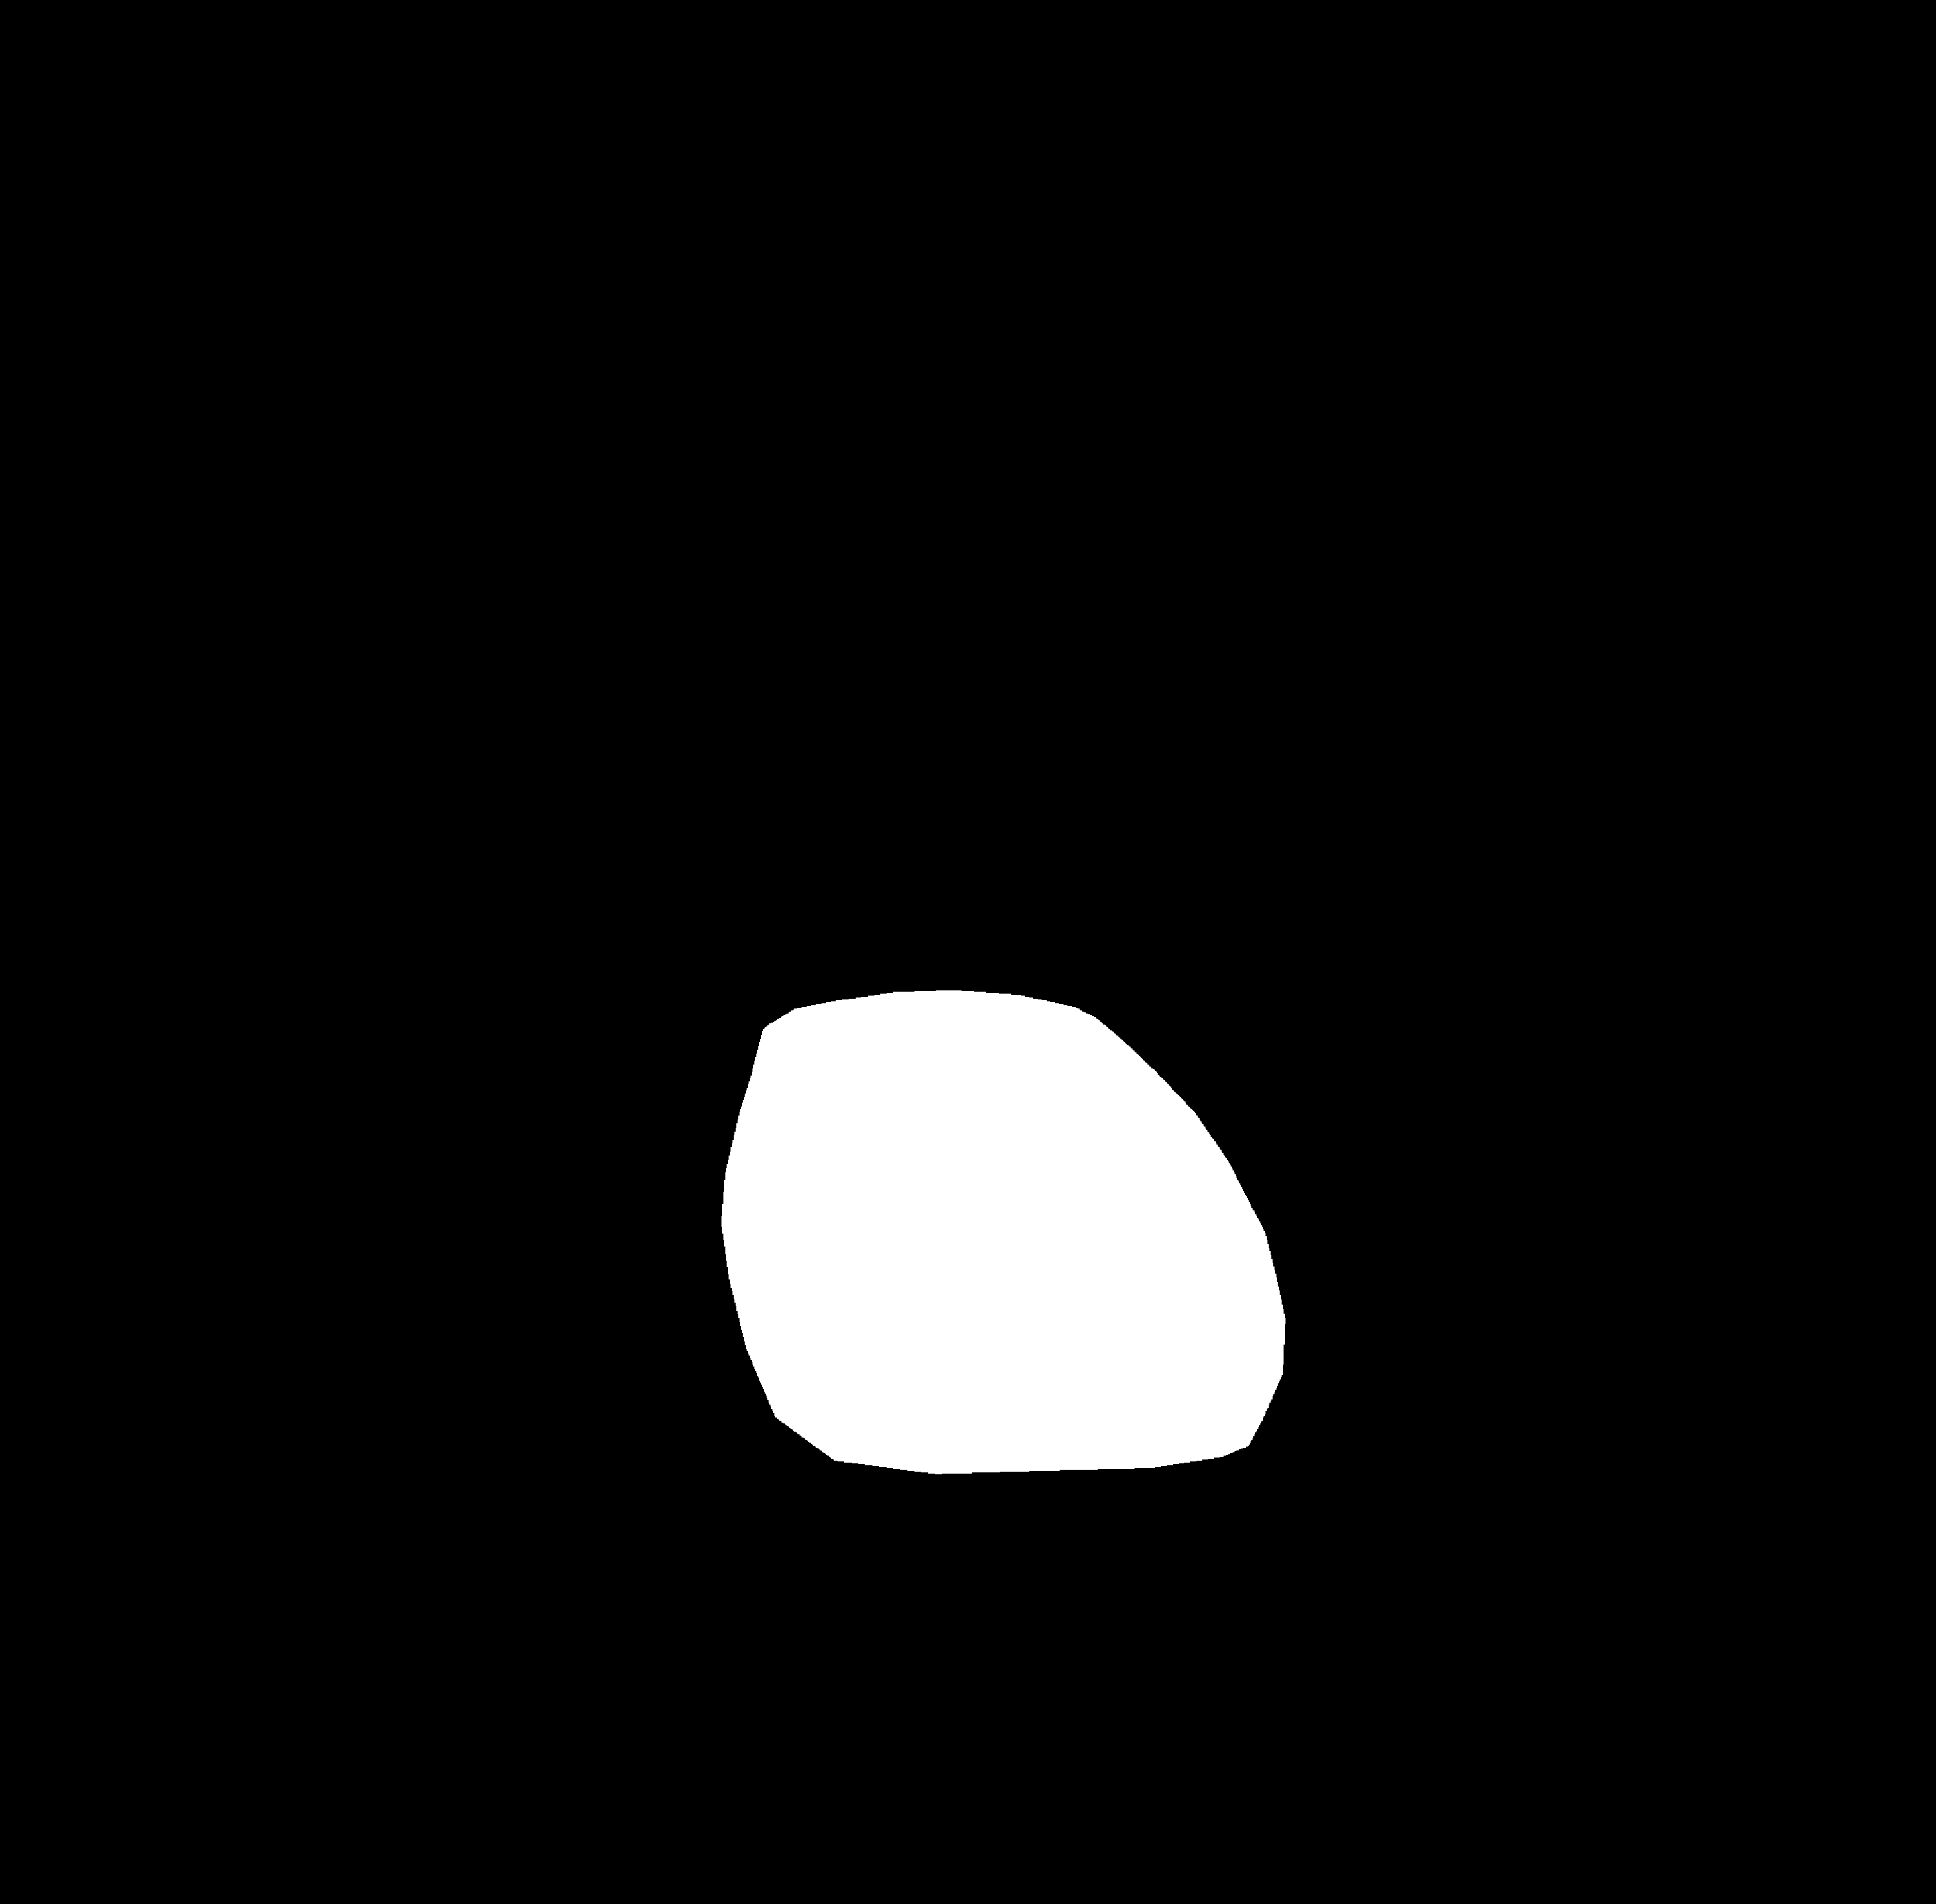heart: (720, 1067, 1280, 1451)
left_lung: (199, 291, 848, 1656)
right_lung: (973, 275, 1629, 1629)
